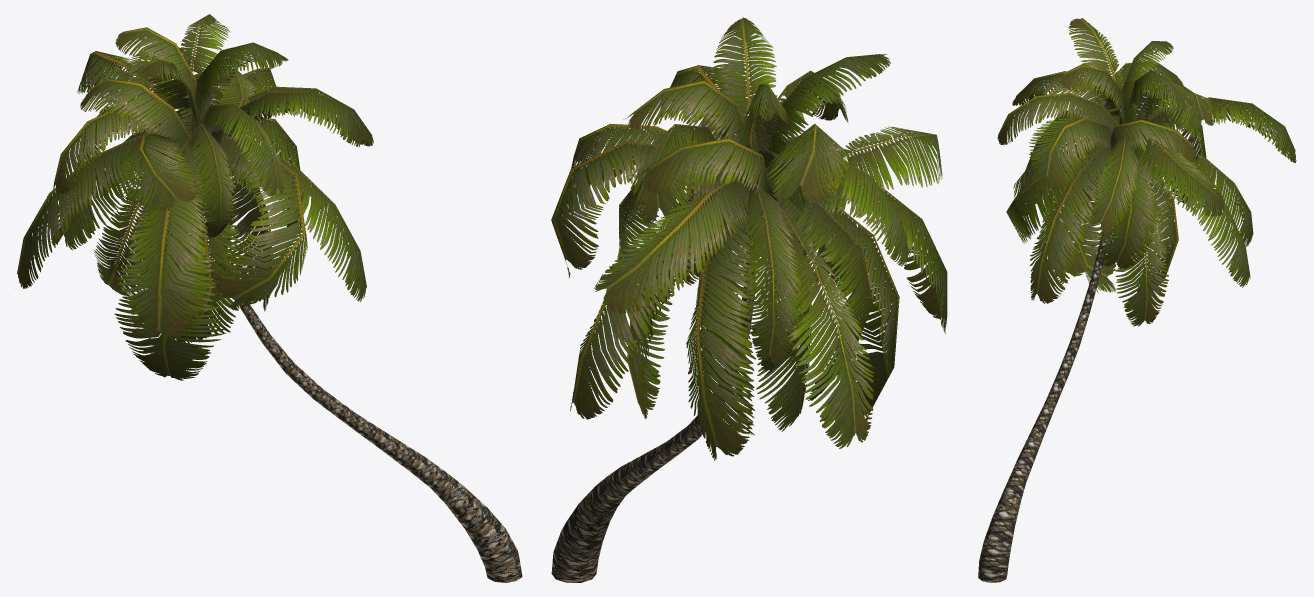
File: palm_tropical_1.glb
The picture shows the model from 3 angles, left to right: view 1: azimuth 30°, elevation 25°; view 2: azimuth 150°, elevation 25°; view 3: azimuth 270°, elevation 25°; orthographic projection. The views are drawn at different scales.
Parts seen in each view (by area): view 1: palm_tropical_1; view 2: palm_tropical_1; view 3: palm_tropical_1.
Boxes of the visible parts, left/top/right/bottom form: palm_tropical_1: left=17, top=14, right=522, bottom=582; palm_tropical_1: left=551, top=17, right=947, bottom=582; palm_tropical_1: left=978, top=18, right=1296, bottom=582.
Size of the model in its own units: 7.08 by 9.58 by 6.37.
1 material, 1 textured.
